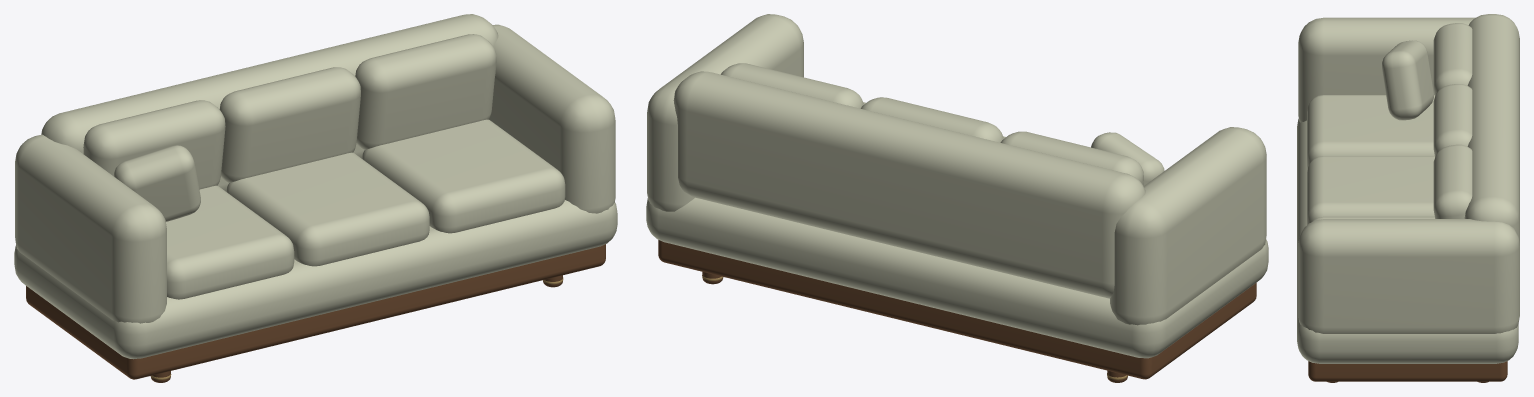
Rendered from sofa.glb.
The picture shows the model from 3 angles, left to right: view 1: azimuth 30°, elevation 25°; view 2: azimuth 150°, elevation 25°; view 3: azimuth 270°, elevation 25°; orthographic projection. The views are drawn at different scales.
Parts seen in each view (by area): view 1: Upholstered foundation, Sculpted arm, Tailored seat.002, Tailored seat.001, Sculpted arm.001, Relaxed back cushion.001, Relaxed back cushion.002, Solid walnut plinth, Continuous back, Tailored seat, Relaxed back cushion, Accent cushion; view 2: Continuous back, Upholstered foundation, Sculpted arm, Solid walnut plinth, Sculpted arm.001, Relaxed back cushion, Relaxed back cushion.001, Relaxed back cushion.002, Accent cushion; view 3: Sculpted arm.001, Continuous back, Sculpted arm, Upholstered foundation, Tailored seat.001, Tailored seat, Solid walnut plinth, Accent cushion, Relaxed back cushion.002, Relaxed back cushion.001, Relaxed back cushion, Tailored seat.002.
Part boxes in pixels (<box>): Upholstered foundation: <box>14,200,617,359</box>; Sculpted arm: <box>15,134,166,323</box>; Tailored seat.002: <box>362,119,565,233</box>; Tailored seat.001: <box>226,152,429,266</box>; Sculpted arm.001: <box>489,24,615,213</box>; Relaxed back cushion.001: <box>219,67,360,183</box>; Relaxed back cushion.002: <box>355,34,496,150</box>; Solid walnut plinth: <box>26,244,605,379</box>; Continuous back: <box>41,14,498,191</box>; Tailored seat: <box>166,185,294,299</box>; Relaxed back cushion: <box>83,100,225,189</box>; Accent cushion: <box>114,145,200,221</box>; Continuous back: <box>673,71,1145,298</box>; Upholstered foundation: <box>646,197,1268,358</box>; Sculpted arm: <box>1110,127,1266,325</box>; Solid walnut plinth: <box>658,240,1256,379</box>; Sculpted arm.001: <box>647,14,803,211</box>; Relaxed back cushion: <box>1000,131,1143,185</box>; Relaxed back cushion.001: <box>861,97,1003,142</box>; Relaxed back cushion.002: <box>721,63,863,108</box>; Accent cushion: <box>1091,132,1164,186</box>; Sculpted arm.001: <box>1298,219,1519,333</box>; Continuous back: <box>1464,14,1519,243</box>; Sculpted arm: <box>1298,17,1475,122</box>; Upholstered foundation: <box>1297,118,1518,363</box>; Tailored seat.001: <box>1307,156,1434,224</box>; Tailored seat: <box>1307,95,1434,168</box>; Solid walnut plinth: <box>1308,361,1507,381</box>; Accent cushion: <box>1382,40,1433,120</box>; Relaxed back cushion.002: <box>1433,144,1472,218</box>; Relaxed back cushion.001: <box>1433,84,1472,157</box>; Relaxed back cushion: <box>1433,23,1472,96</box>; Tailored seat.002: <box>1311,216,1434,222</box>.
Size of the model in its own units: 2.4 by 0.925 by 1.
